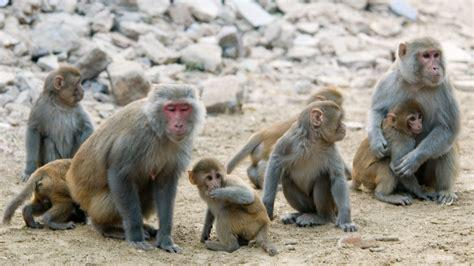monkey: (69, 85, 202, 251), (368, 37, 458, 202), (262, 101, 357, 231), (187, 157, 276, 255), (353, 101, 436, 205), (27, 67, 92, 178)
